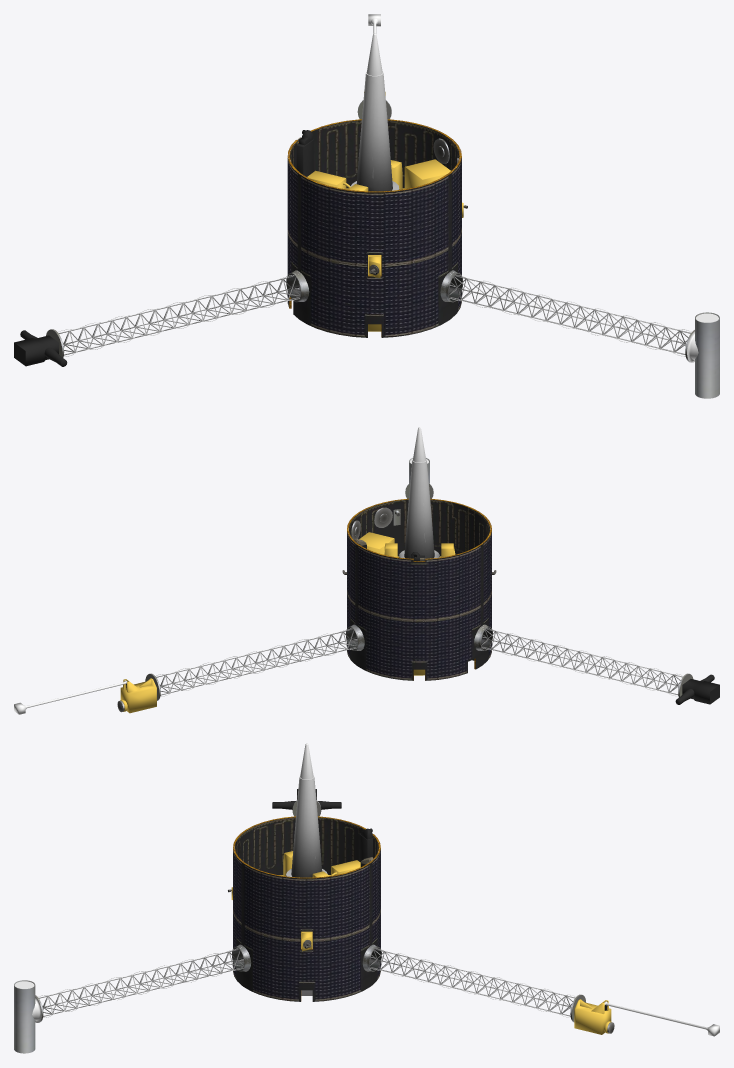
File: lunar_prospector.glb
3 views of the same model, one above another, from view 1: azimuth 30°, elevation 25°; view 2: azimuth 150°, elevation 25°; view 3: azimuth 270°, elevation 25° (orthographic). The views are drawn at different scales.
Visible parts, largest first — view 1: shiny_panel, AO, tex_01, foil_gold, krinkle, foil_silver; view 2: shiny_panel, AO, tex_01, foil_gold, foil_silver, krinkle; view 3: shiny_panel, AO, tex_01, foil_gold, foil_silver, krinkle.
Part boxes in pixels (x1=…): shiny_panel: x1=287, y1=157, x2=461, y2=337; AO: x1=58, y1=33, x2=690, y2=355; tex_01: x1=46, y1=100, x2=719, y2=398; foil_gold: x1=307, y1=92, x2=463, y2=331; krinkle: x1=14, y1=130, x2=313, y2=366; foil_silver: x1=58, y1=14, x2=718, y2=362; shiny_panel: x1=347, y1=531, x2=491, y2=680; AO: x1=156, y1=427, x2=682, y2=695; tex_01: x1=117, y1=458, x2=693, y2=712; foil_gold: x1=120, y1=532, x2=455, y2=713; foil_silver: x1=14, y1=459, x2=683, y2=714; krinkle: x1=411, y1=552, x2=719, y2=704; shiny_panel: x1=233, y1=848, x2=380, y2=1001; AO: x1=39, y1=743, x2=574, y2=1016; tex_01: x1=14, y1=800, x2=614, y2=1053; foil_gold: x1=231, y1=851, x2=611, y2=1034; foil_silver: x1=15, y1=948, x2=719, y2=1036; krinkle: x1=272, y1=789, x2=372, y2=862.
Size of the model in its own units: 5.58 by 2.47 by 6.69.
6 materials, 3 textured.
